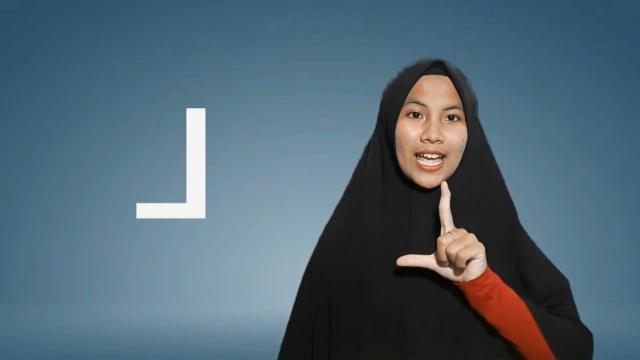L: (389, 179, 487, 287)
